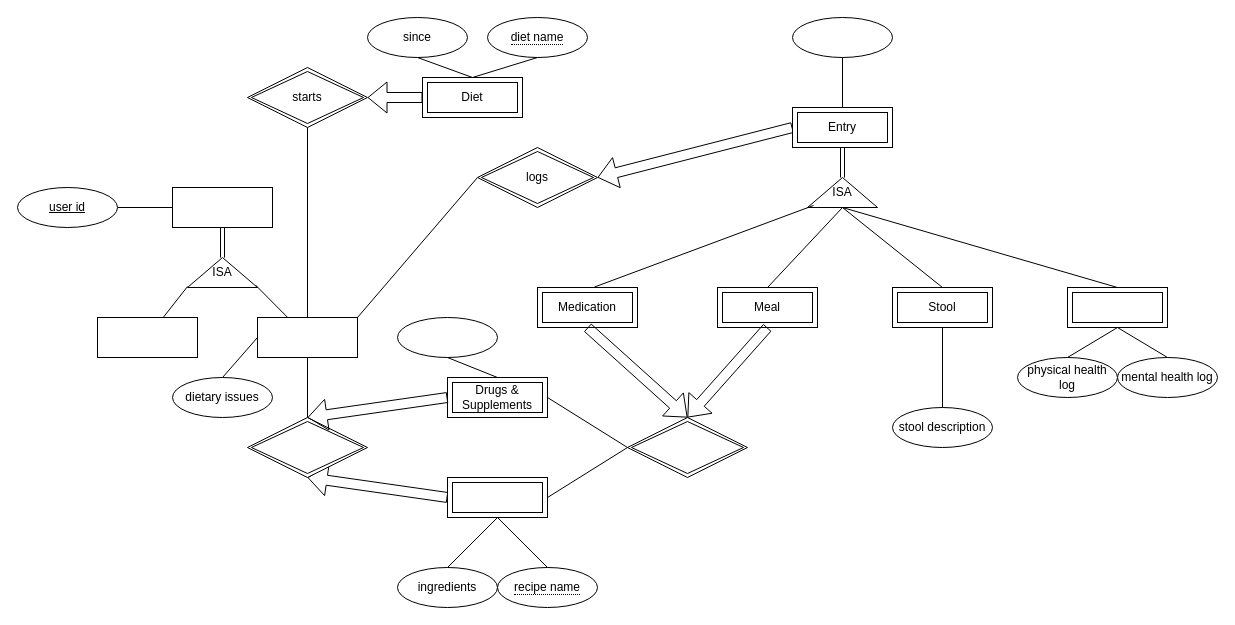
Some shapes in this 1235 by 625 pixel diagram are drawn without their labels. The centre of each missing label's shape, as x and y in pixels:
Admin: the point at 147,337
entered: the point at 687,447
entered at: the point at 842,37
Health: the point at 1117,307
medication name: the point at 447,337
Member: the point at 307,337
Recipe: the point at 497,497
saves: the point at 307,447
User: the point at 222,207
